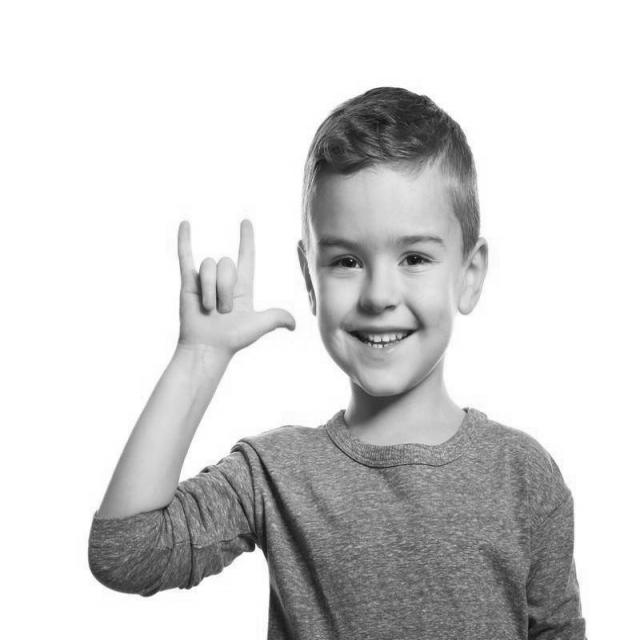i love you: (172, 208, 299, 368)
